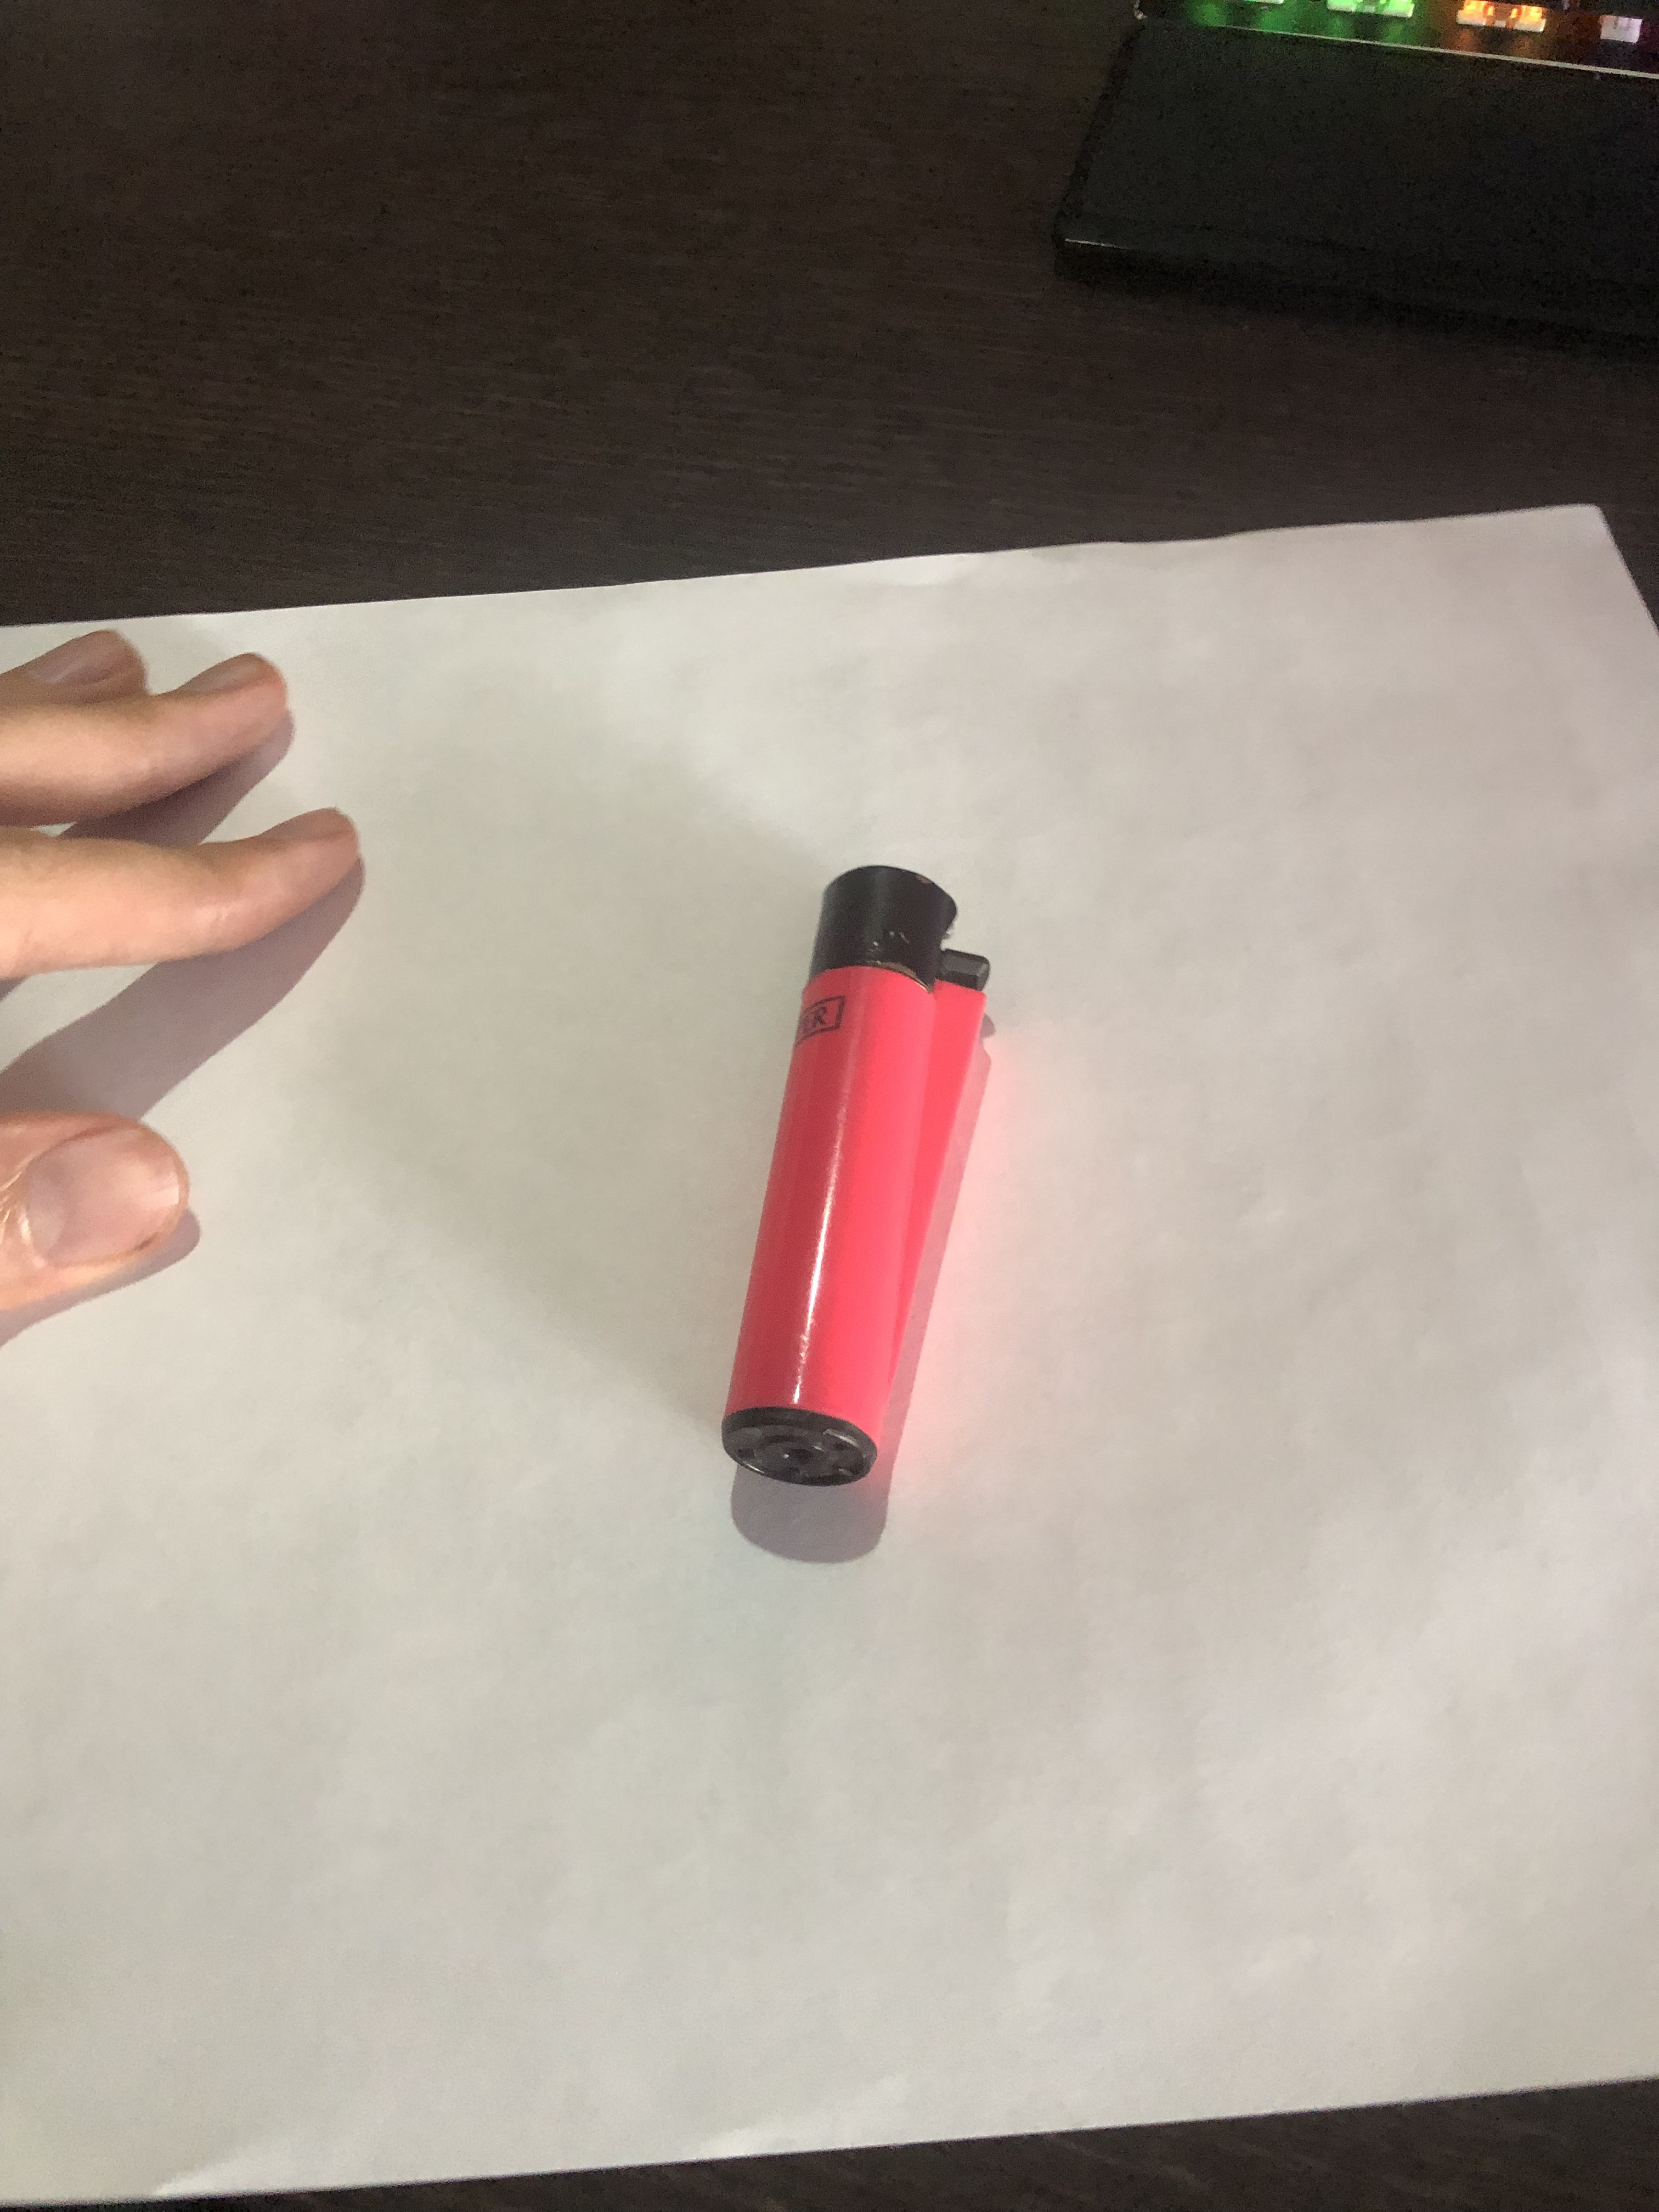Mechero: (716, 843, 1002, 1514)
